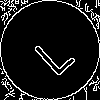L: (25, 25, 77, 78)
